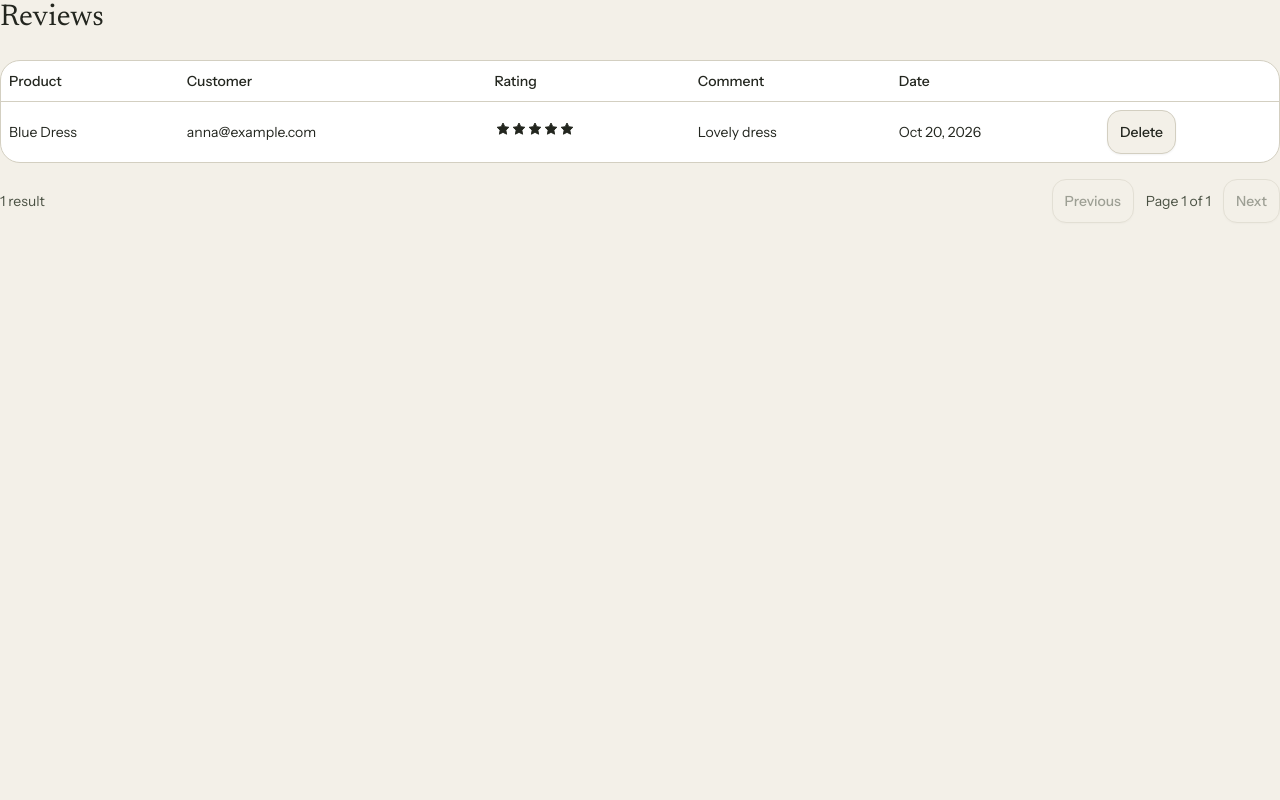
Test case: admin ReviewsPage › deleting › asks first, and "Keep review" deletes nothing
What coordinates should you click on to do the following:
click the button with aria-label "Delete the review by anna@example.com"
I would click on:
 (1142, 132)
Its box is [1107,110,1176,154].
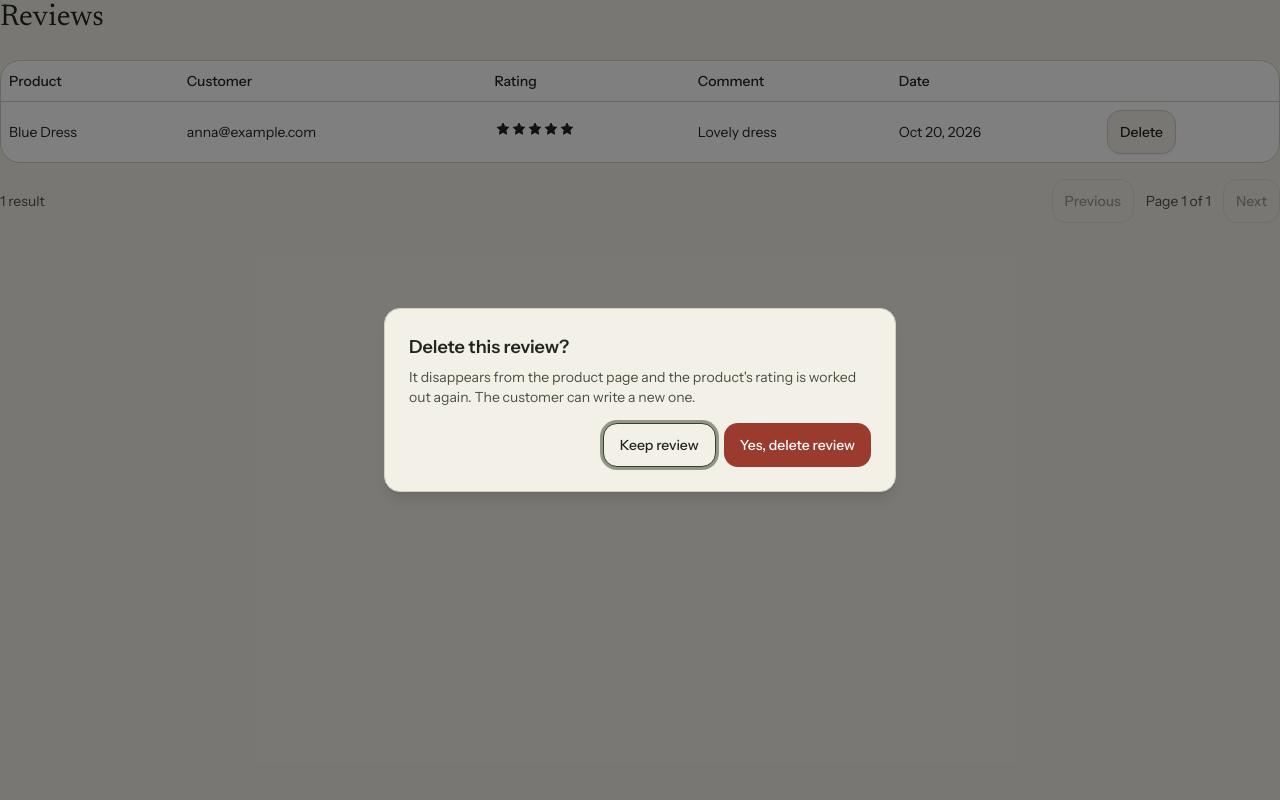
Expected: the heading "Delete this review?" is shown, [409,333,569,361]
What coordinates should you click on to do the following:
click the button "Keep review"
I would click on:
 (659, 445)
Its box is [603,423,716,467].
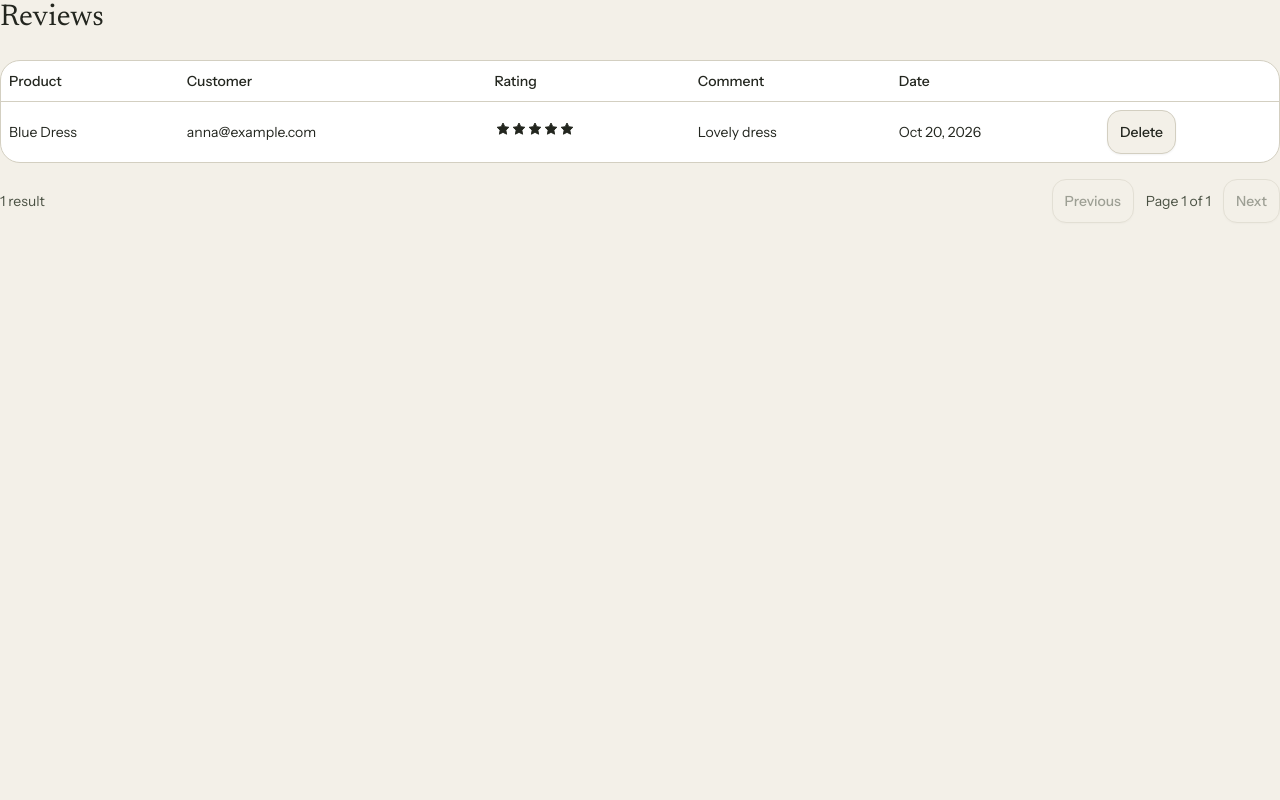
Expected: the text "anna@example.com" is shown, [179,101,486,162]
Expected: the dialog is gone
